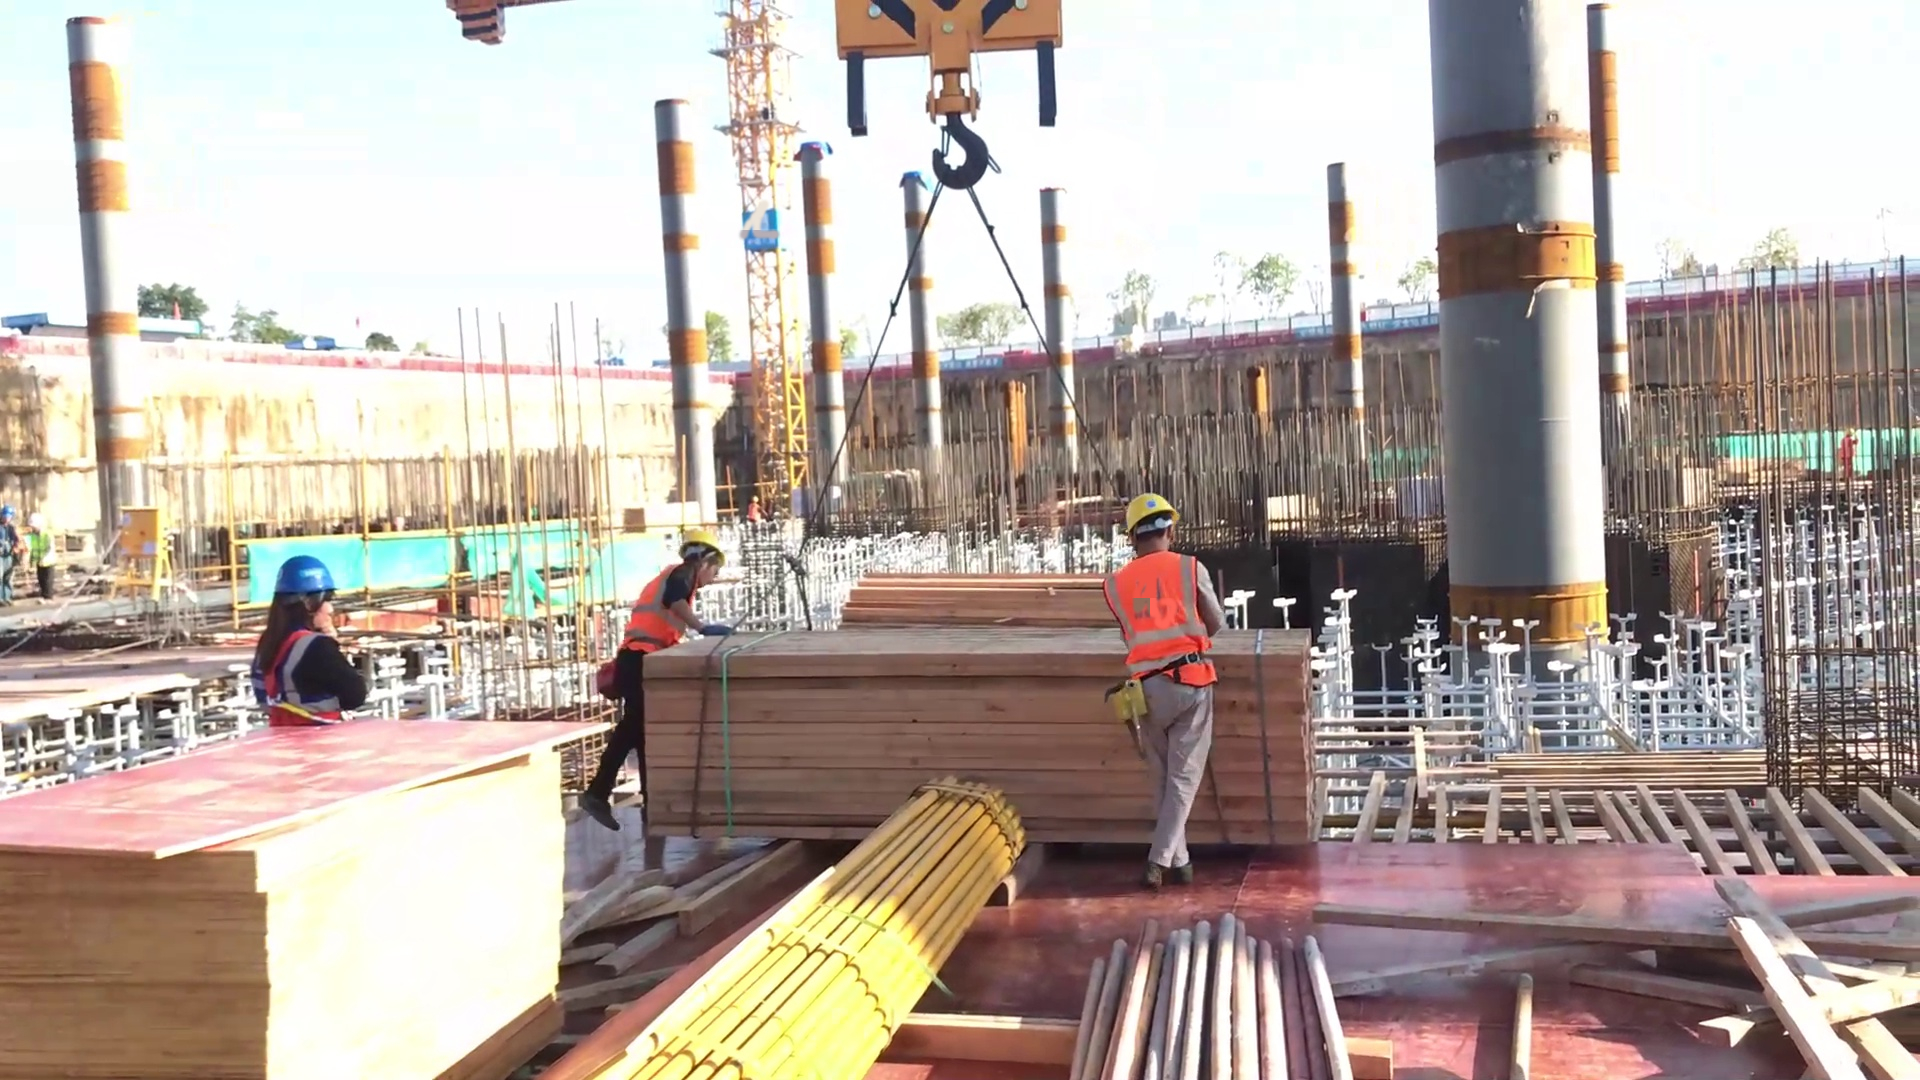helmet: (251, 538, 350, 591), (1117, 492, 1198, 539), (663, 522, 735, 574)
person: (1090, 483, 1238, 892), (579, 530, 729, 824), (236, 542, 367, 746), (25, 507, 73, 599), (392, 835, 396, 841)
vest: (1101, 549, 1221, 669), (223, 623, 340, 724), (616, 562, 686, 651)
